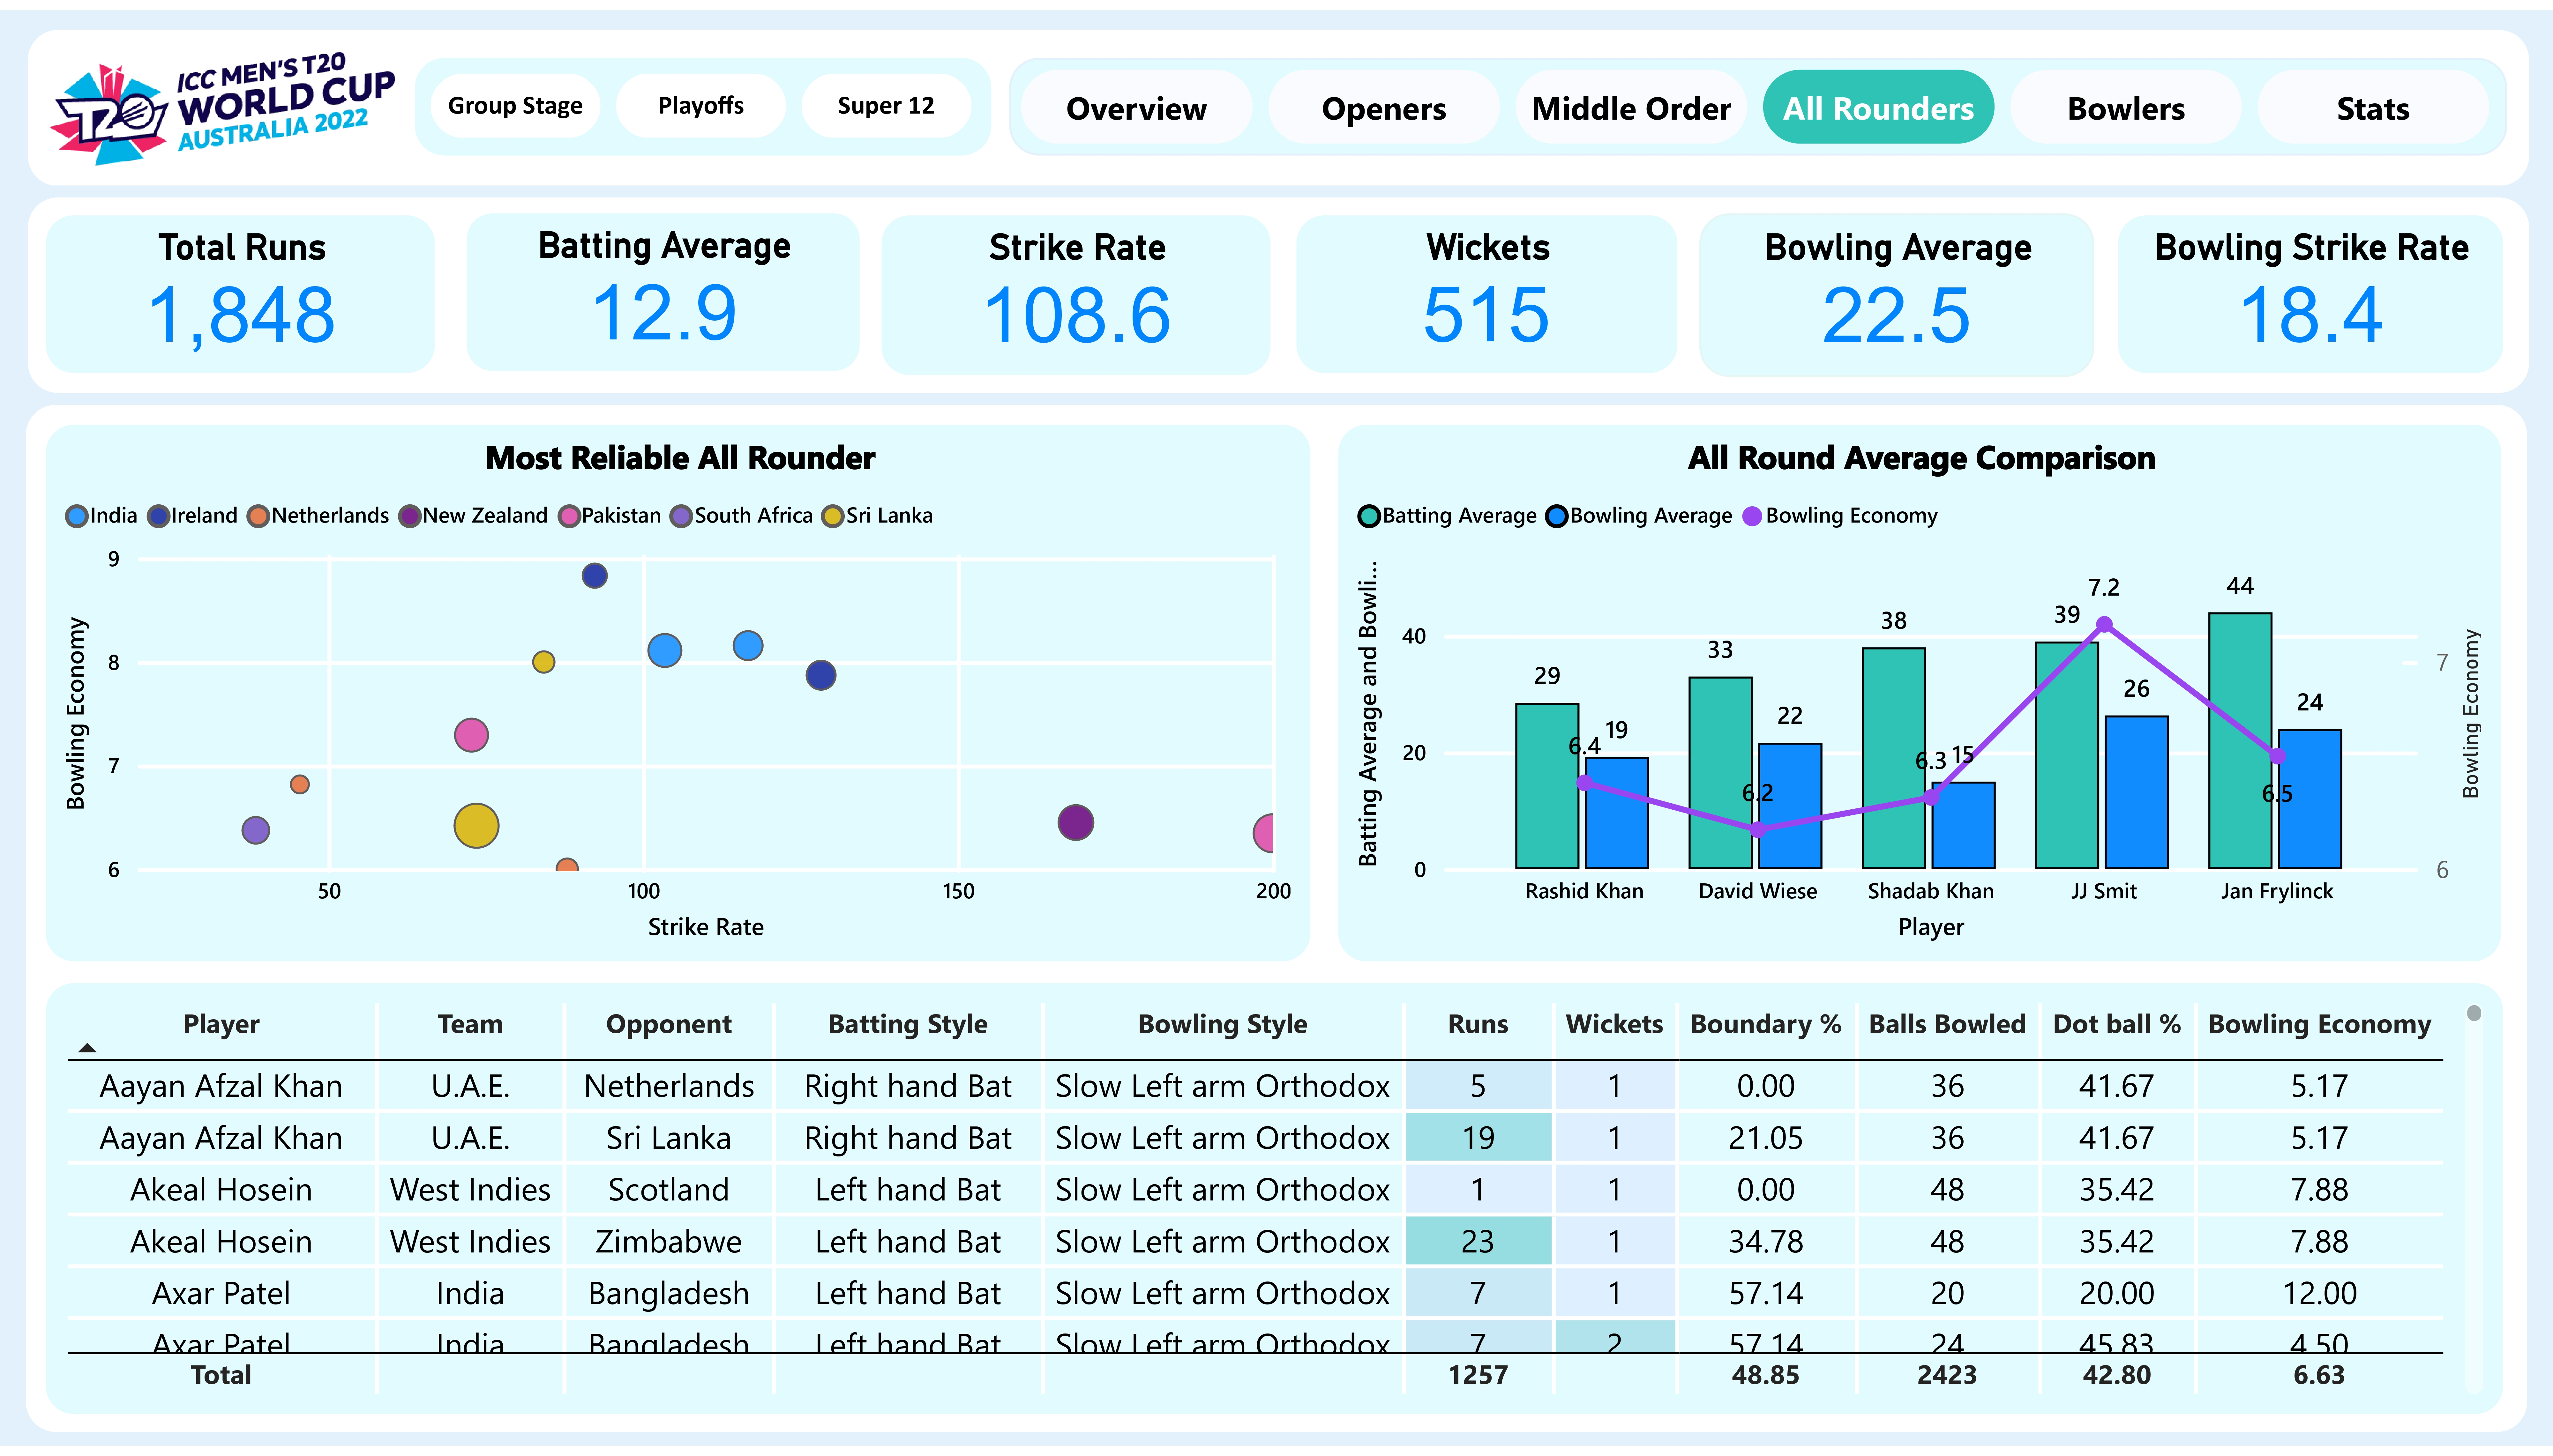

This screenshot's page, from the dashboard's own definition file:
{"tool":"powerbi","page":{"name":"All Rounders","canvas":[1280,720],"ordinal":3},"visuals":[{"type":"shape","box":[12.5,198,1254,515],"z":0},{"type":"lineClusteredColumnComboChart","title":"All Round Average Comparison","fields":{"Category":["players.name"],"Y":["Measure.Batting Average","Measure.Bowling average"],"Y2":["Measure.Bowling Economy"]},"box":[670.1,207,585.5,271],"z":4000},{"type":"scatterChart","title":"Most Reliable All Rounder","fields":{"X":["Measure.Strike Rate"],"Y":["Measure.Bowling Economy"],"Category":["players.name"],"Series":["players.team"],"Size":["Measure.Wickets"]},"box":[21.5,207.5,636.1,271],"z":6000},{"type":"tableEx","fields":{"Values":["players.name","bating_summary.team","bating_summary.Opponent","players.battingStyle","players.bowlingStyle","Measure.Total Runs","bowling_summary.wickets","Measure.Boundary %","Measure.Balls Bowled","Measure.Dot ball %","Measure.Bowling Economy"]},"box":[22,487,1234,218],"z":8000},{"type":"shape","box":[13.8,93.8,1254,98],"z":9000},{"type":"advanceCardE03760C5AB684758B56AA29F9E6C257B","title":"Batting Average","fields":{"mainMeasure":["Measure.Batting Average"]},"box":[232.5,101.2,198.8,81.2],"z":10000},{"type":"advanceCardE03760C5AB684758B56AA29F9E6C257B","title":"Total Runs","fields":{"mainMeasure":["Measure.Total Runs"]},"box":[22.3,102.4,197,81.3],"z":11000},{"type":"advanceCardE03760C5AB684758B56AA29F9E6C257B","title":"Bowling Strike Rate","fields":{"mainMeasure":["Measure.Bowling strick rate"]},"box":[1061,102.4,194.8,81.3],"z":12000},{"type":"advanceCardE03760C5AB684758B56AA29F9E6C257B","title":"Bowling Average","fields":{"mainMeasure":["Measure.Bowling average"]},"box":[852,102,198,81.6],"z":13000},{"type":"advanceCardE03760C5AB684758B56AA29F9E6C257B","title":"Wickets","fields":{"mainMeasure":["Measure.Wickets"]},"box":[649,102,192.6,81],"z":14000},{"type":"advanceCardE03760C5AB684758B56AA29F9E6C257B","title":"Strike Rate","fields":{"mainMeasure":["Measure.Strike Rate"]},"box":[441,102,197,81.6],"z":15000},{"type":"shape","box":[13.6,10.2,1254,78.2],"z":16000},{"type":"image","box":[25.2,12.6,173.4,73.6],"z":17000},{"type":"pageNavigator","box":[506.1,24,750.9,49],"z":18000},{"type":"advancedSlicerVisual","fields":{"Values":["match_summary.Stage"]},"box":[208.1,24.5,289.4,49],"z":19000}]}

Visuals, with their boxes in screenshot pixels (x1, y1, x2, y2), scaled from the page's 1280x720 canvas onto the 2553x1456 screenshot:
shape: 25,400,2526,1442
"All Round Average Comparison" lineClusteredColumnComboChart: 1336,419,2504,967
"Most Reliable All Rounder" scatterChart: 43,420,1312,968
tableEx - players.name x bating_summary.team: 44,985,2505,1426
shape: 27,190,2529,388
"Batting Average" advanceCardE03760C5AB684758B56AA29F9E6C257B: 464,204,860,369
"Total Runs" advanceCardE03760C5AB684758B56AA29F9E6C257B: 44,207,438,371
"Bowling Strike Rate" advanceCardE03760C5AB684758B56AA29F9E6C257B: 2116,207,2505,371
"Bowling Average" advanceCardE03760C5AB684758B56AA29F9E6C257B: 1699,206,2094,371
"Wickets" advanceCardE03760C5AB684758B56AA29F9E6C257B: 1294,206,1679,370
"Strike Rate" advanceCardE03760C5AB684758B56AA29F9E6C257B: 880,206,1273,371
shape: 27,21,2528,179
image: 50,26,396,174
pageNavigator: 1009,48,2507,148
advancedSlicerVisual - match_summary.Stage: 415,49,992,149
